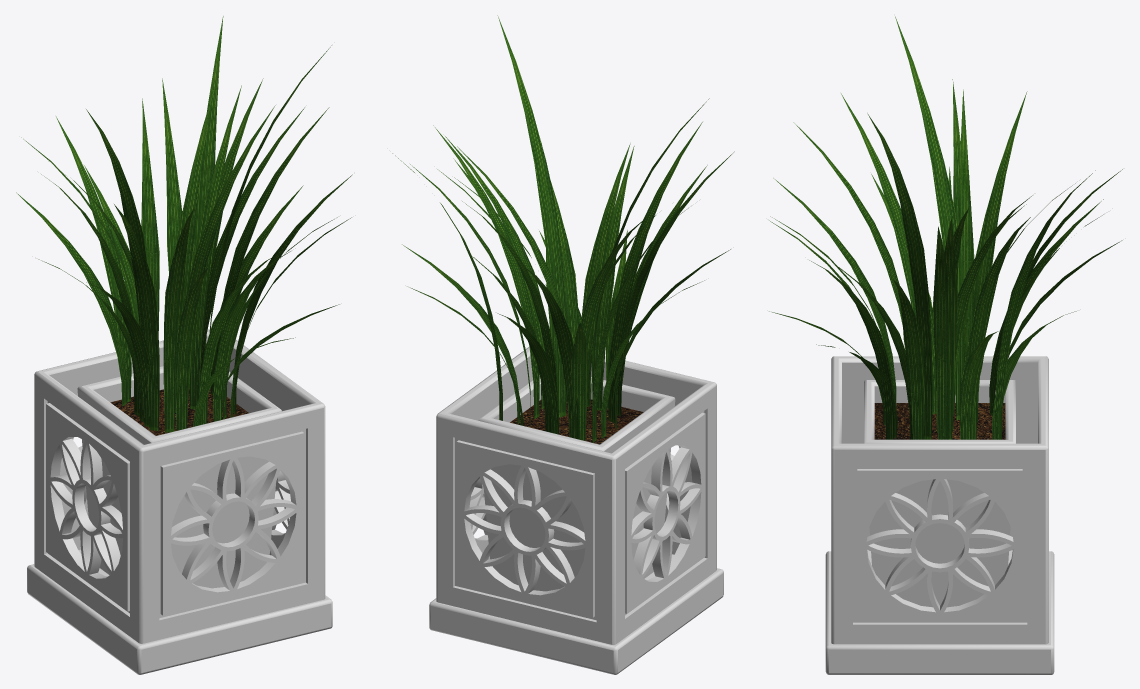
The model's file is Plant.gltf.
3 renders of one model, left to right at view 1: azimuth 30°, elevation 25°; view 2: azimuth 150°, elevation 25°; view 3: azimuth 270°, elevation 25°, orthographic. The views are drawn at different scales.
Visible parts, largest first — view 1: node-0; view 2: node-0; view 3: node-0.
Part boxes in pixels (left/top/right/bottom): node-0: left=16, top=16, right=352, bottom=674; node-0: left=392, top=15, right=734, bottom=674; node-0: left=769, top=16, right=1122, bottom=674.
Size of the model in its own units: 6.29 by 11.46 by 6.53.
